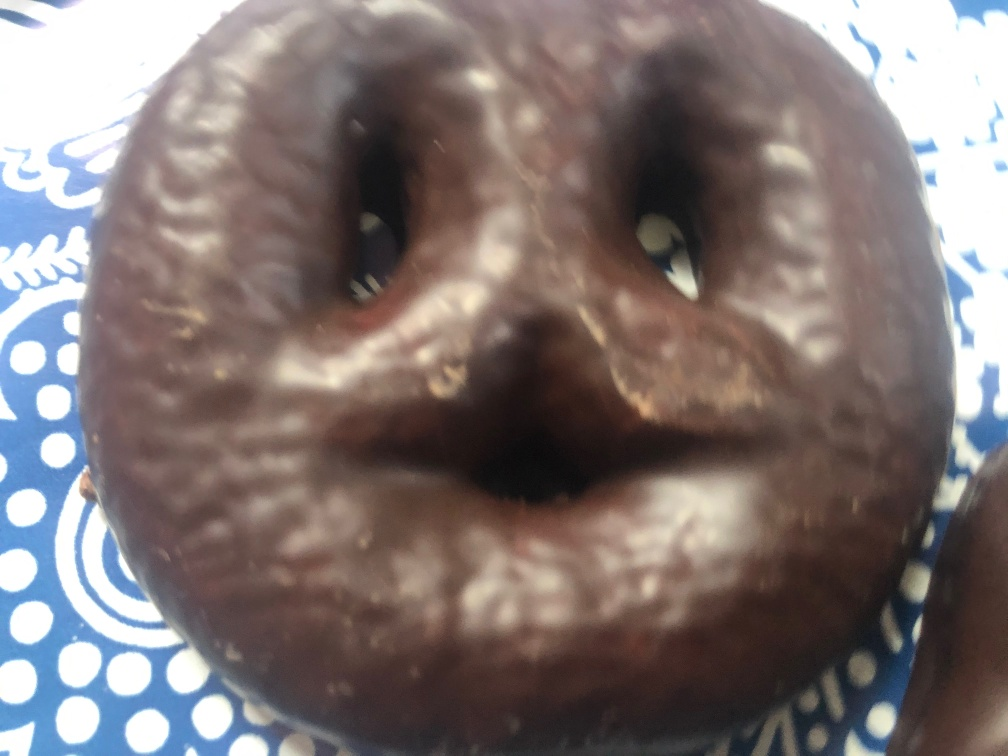bretzel: (77, 1, 959, 754)
